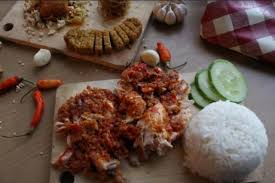ayam_geprek: (53, 73, 190, 178)
